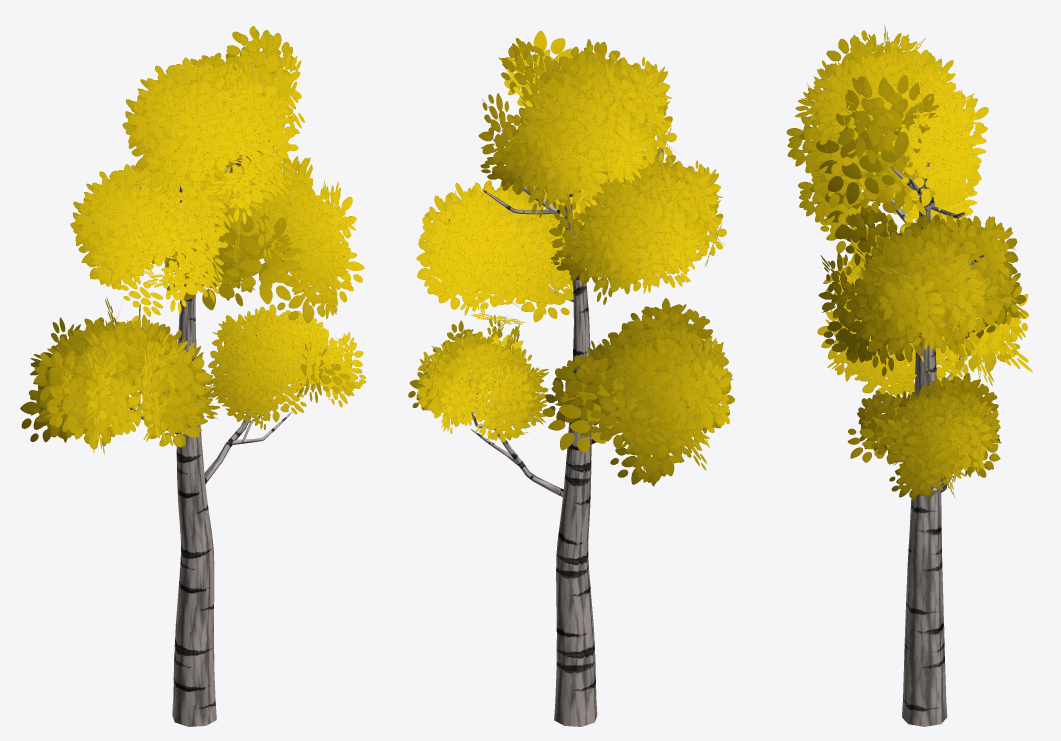
The model's file is BirchTree_1.gltf.
The picture shows the model from 3 angles, left to right: view 1: azimuth 30°, elevation 25°; view 2: azimuth 150°, elevation 25°; view 3: azimuth 270°, elevation 25°; orthographic projection. The views are drawn at different scales.
Visible parts, largest first — view 1: BirchTree_1; view 2: BirchTree_1; view 3: BirchTree_1.
Boxes of the visible parts, box(x1,y1,x2,y2) form: BirchTree_1: box(20, 26, 366, 726); BirchTree_1: box(408, 30, 734, 726); BirchTree_1: box(786, 25, 1032, 726).
Size of the model in its own units: 0.4966 by 1 by 0.3562.
Materials: 2 (2 with a texture image).
